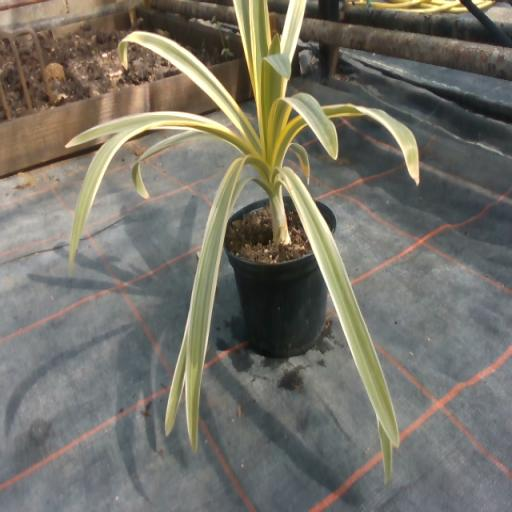Agapanthus-praecox: (282, 167, 398, 445), (70, 121, 253, 274), (184, 155, 270, 450), (119, 32, 260, 148), (119, 32, 258, 148), (322, 103, 418, 182), (66, 112, 230, 147), (132, 131, 212, 197), (267, 93, 337, 157), (165, 313, 189, 434), (262, 50, 290, 128), (249, 0, 270, 99), (233, 0, 254, 87), (272, 118, 310, 163), (282, 0, 306, 60), (378, 422, 391, 484), (233, 178, 261, 204)
